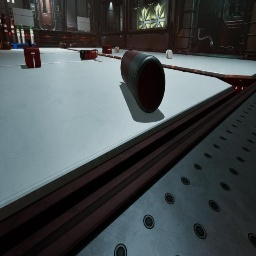0: (20, 22, 26, 44), (16, 22, 21, 43), (30, 22, 34, 44), (166, 49, 173, 59), (115, 47, 119, 53)
EmergencyPhone ,: (56, 4, 59, 11)
FireAlarm ,: (60, 11, 62, 15), (125, 18, 126, 22)
FireExtinguisher ]: (80, 49, 98, 60), (48, 27, 52, 30), (15, 26, 23, 27), (97, 55, 98, 56), (49, 30, 49, 30)
FirstAidBox ,: (24, 40, 41, 68), (102, 45, 112, 54), (34, 43, 37, 47)
NitrogenTank ,: (121, 50, 165, 113), (1, 14, 11, 43), (8, 15, 17, 44), (1, 15, 5, 42), (0, 42, 11, 50), (59, 42, 68, 49), (68, 43, 77, 48), (0, 28, 2, 42)
SafetySwitchPanel ,: (177, 15, 184, 36), (30, 3, 36, 18)
